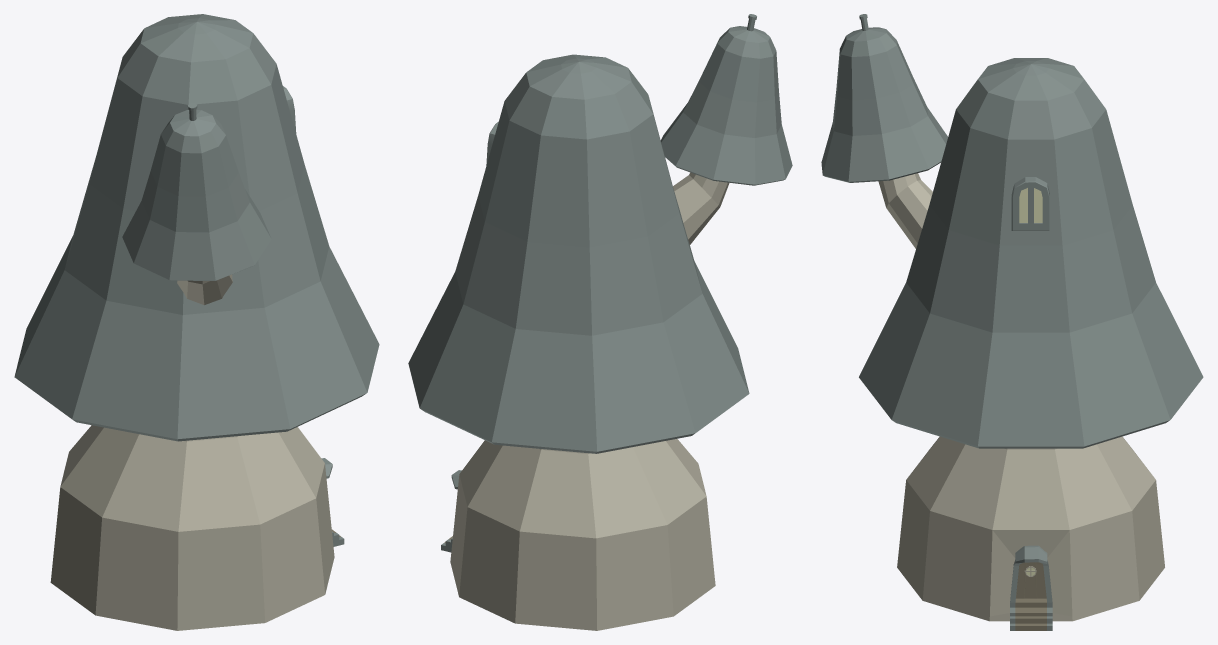
File: house.fbx
3 renders of one model, left to right at view 1: azimuth 30°, elevation 25°; view 2: azimuth 150°, elevation 25°; view 3: azimuth 270°, elevation 25°, orthographic. The views are drawn at different scales.
Parts seen in each view (by area): view 1: house; view 2: house; view 3: house, door.
Boxes of the visible parts, x1=… form: house: x1=14, y1=14, x2=379, y2=630; house: x1=408, y1=14, x2=792, y2=630; house: x1=821, y1=14, x2=1203, y2=630; door: x1=1016, y1=562, x2=1046, y2=598.
Bounding box in the file's own units: 21.09 × 36.33 × 24.57.
